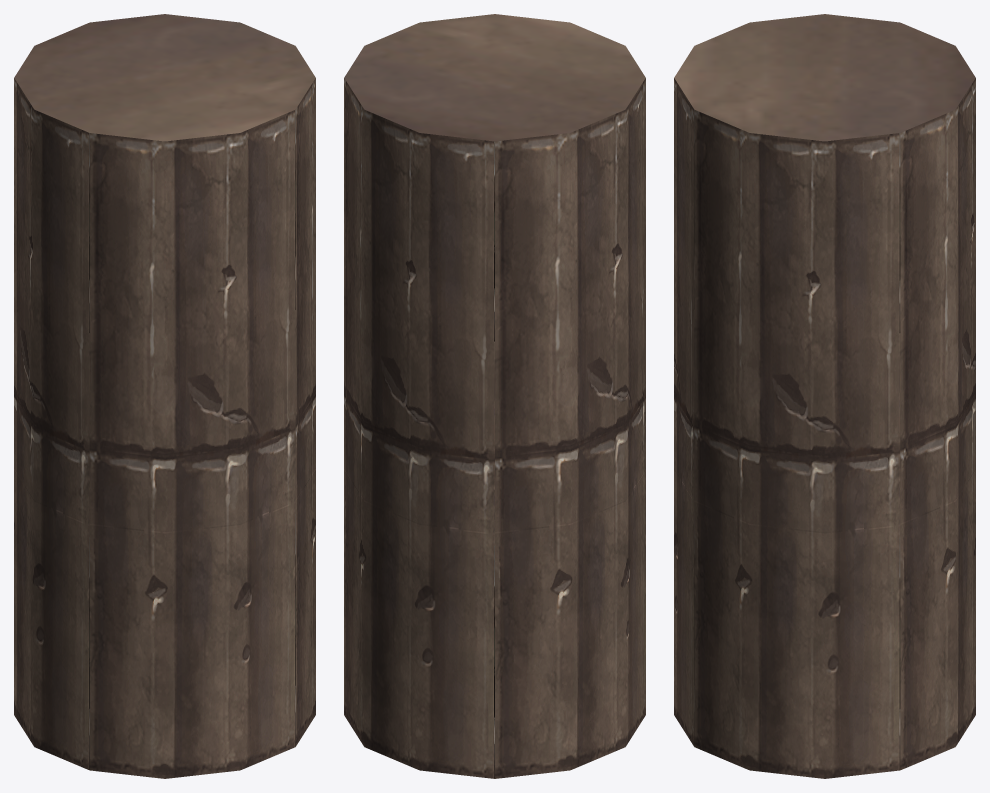
The model's file is a02_pillar_a.FBX.
3 renders of one model, left to right at view 1: azimuth 30°, elevation 25°; view 2: azimuth 150°, elevation 25°; view 3: azimuth 270°, elevation 25°, orthographic.
Parts seen in each view (by area): view 1: a02_pillar_a; view 2: a02_pillar_a; view 3: a02_pillar_a.
Boxes of the visible parts, bbox=[...] form: a02_pillar_a: bbox=[14, 14, 315, 778]; a02_pillar_a: bbox=[344, 14, 645, 778]; a02_pillar_a: bbox=[674, 14, 975, 778].
Bounding box in the file's own units: 1.35 × 3.15 × 1.35.
